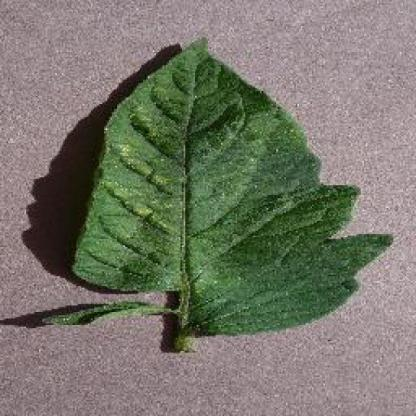Tomato_Spider_Mites: (45, 36, 392, 340)
